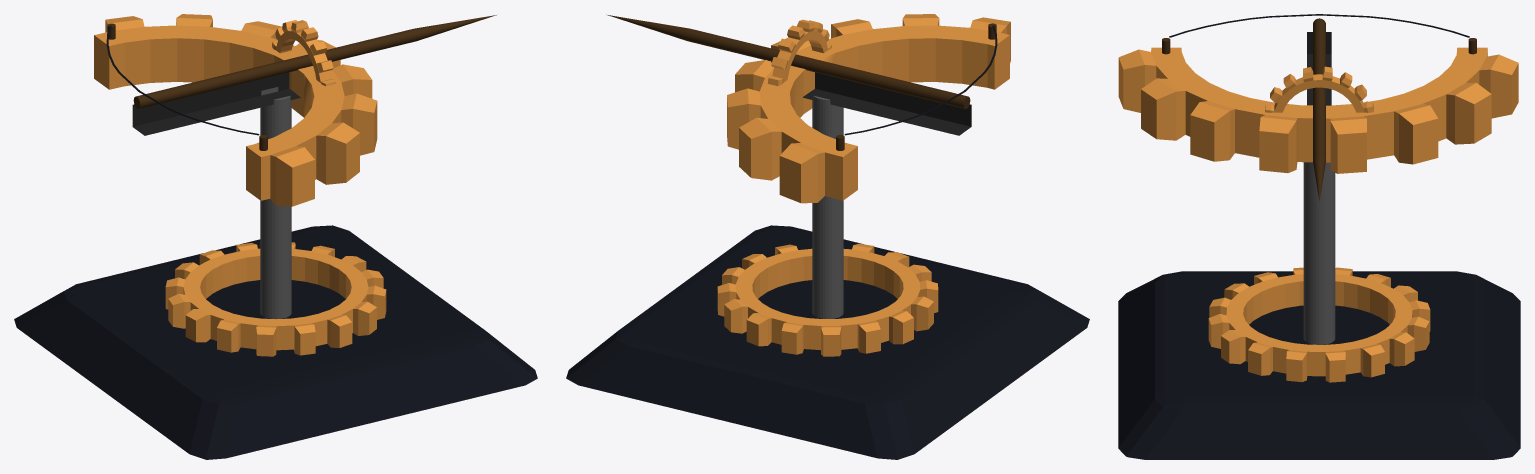
Rendered from Crossbow.fbx.
3 views of the same model, side by side, from view 1: azimuth 30°, elevation 25°; view 2: azimuth 150°, elevation 25°; view 3: azimuth 270°, elevation 25° (orthographic).
Parts seen in each view (by area): view 1: Tower, Cylinder.004, Cylinder.006, Cylinder, Cylinder.002; view 2: Tower, Cylinder.004, Cylinder.006, Cylinder, Cylinder.002; view 3: Tower, Cylinder.004, Cylinder.006, Cylinder, Cylinder.002.
Boxes of the visible parts, bbox=[...] form: Tower: bbox=[14, 225, 537, 459]; Cylinder.004: bbox=[94, 14, 377, 206]; Cylinder.006: bbox=[165, 242, 386, 356]; Cylinder: bbox=[260, 87, 291, 319]; Cylinder.002: bbox=[133, 15, 496, 108]; Tower: bbox=[566, 225, 1089, 459]; Cylinder.004: bbox=[727, 14, 1010, 203]; Cylinder.006: bbox=[717, 243, 938, 356]; Cylinder: bbox=[812, 95, 843, 318]; Cylinder.002: bbox=[606, 14, 970, 108]; Tower: bbox=[1118, 271, 1520, 459]; Cylinder.004: bbox=[1118, 14, 1518, 173]; Cylinder.006: bbox=[1208, 267, 1430, 382]; Cylinder: bbox=[1303, 162, 1335, 344]; Cylinder.002: bbox=[1313, 18, 1325, 201].
Size of the model in its own units: 2.52 by 2.2 by 1.95.
